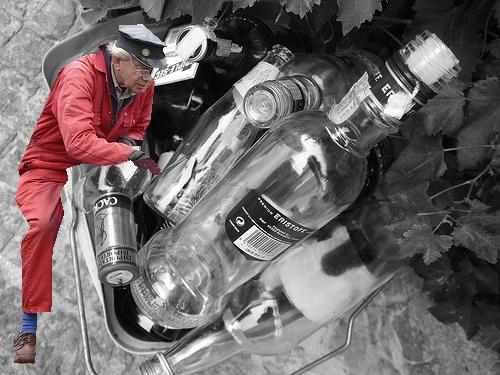tampered: (15, 25, 167, 364)
